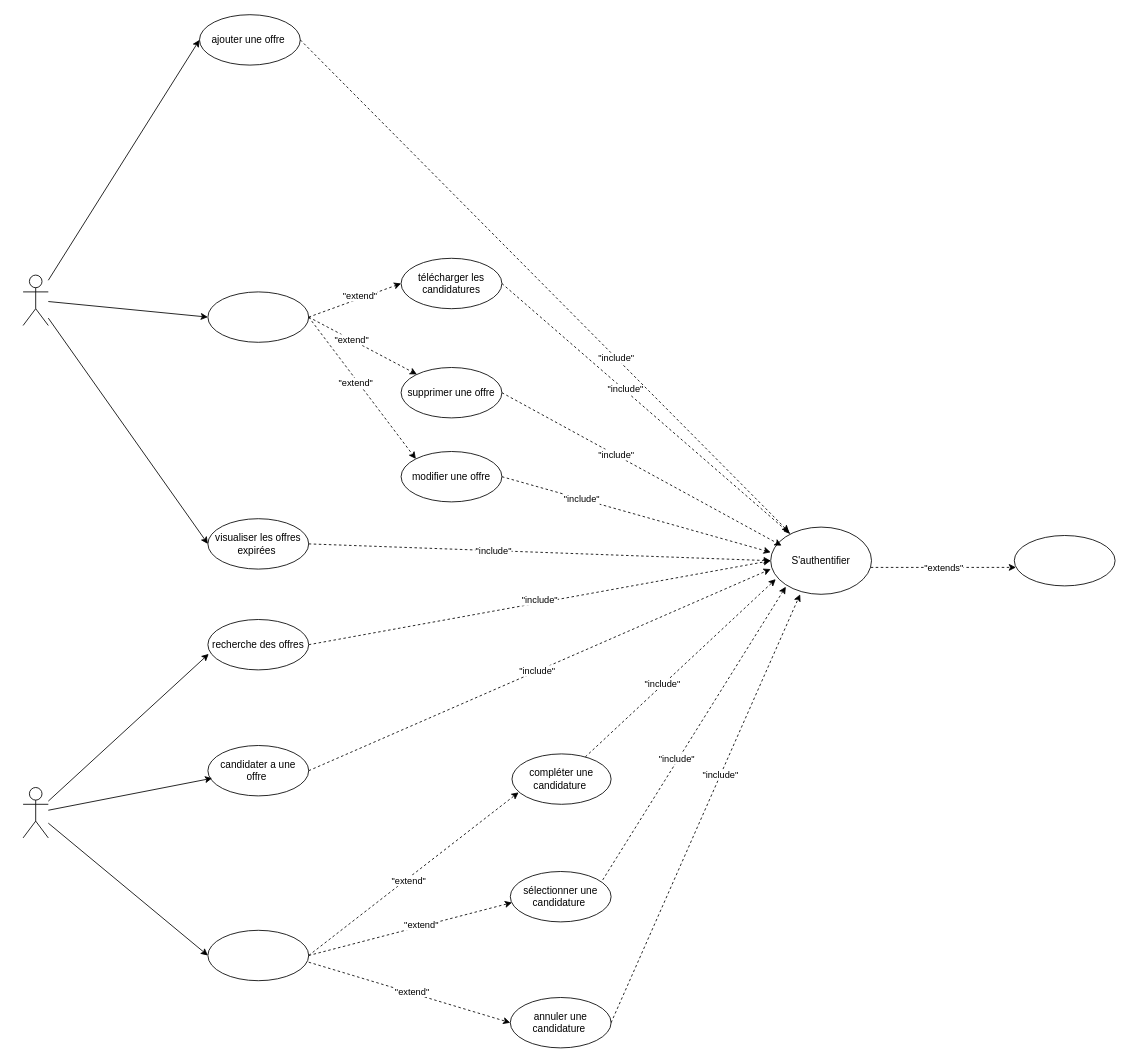
The diagram is 1130 pixels wide and 1063 high, and some of its shapes have lost their labels. The shapes that lost their labels are listed below. From the top down, each one's centre as x and y in pixels, then its label:
pixel 35 300: recruteur
pixel 258 316: visualiser les offres encore valides
pixel 1064 560: crée un compte
pixel 35 812: candidat
pixel 258 955: Visualiser ses candidatures
